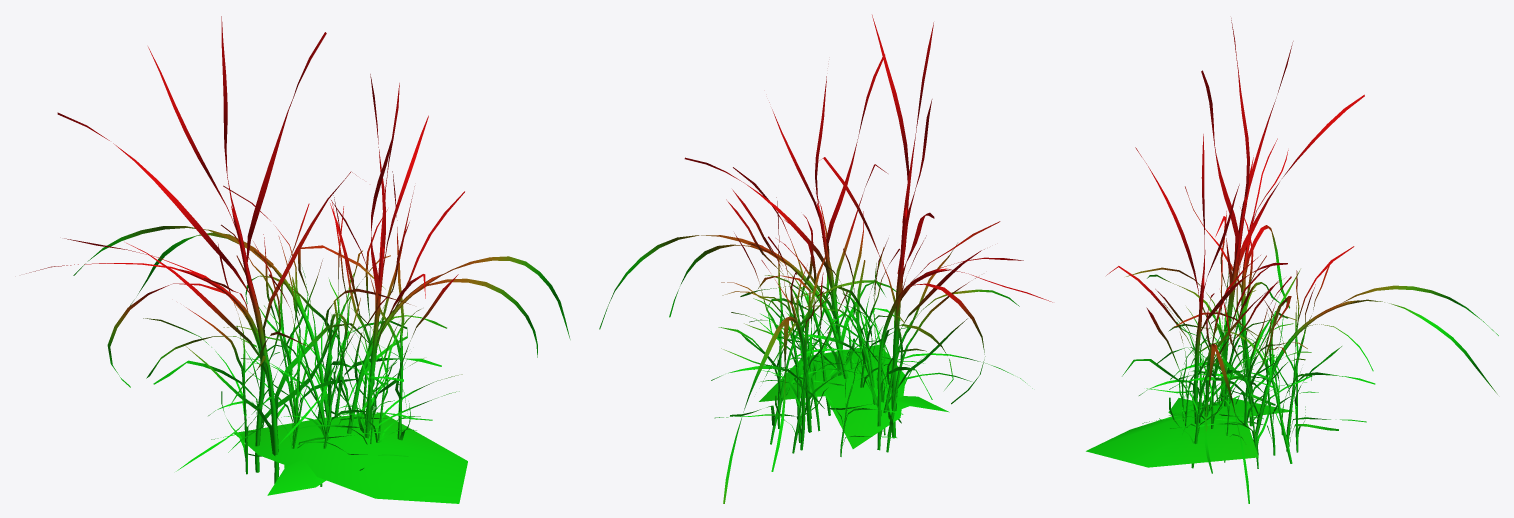
File: Kikuyu Grass_LOD1_Var13_wiljearqx.fbx
3 renders of one model, left to right at view 1: azimuth 30°, elevation 25°; view 2: azimuth 150°, elevation 25°; view 3: azimuth 270°, elevation 25°, orthographic. The views are drawn at different scales.
Parts seen in each view (by area): view 1: _yx9r_Var13_LOD1; view 2: _yx9r_Var13_LOD1; view 3: _yx9r_Var13_LOD1.
Part boxes in pixels (left/top/right/bottom): _yx9r_Var13_LOD1: left=26, top=16, right=570, bottom=503; _yx9r_Var13_LOD1: left=599, top=15, right=1052, bottom=503; _yx9r_Var13_LOD1: left=1086, top=18, right=1498, bottom=503.
Bounding box in the file's own units: 56.46 × 48.61 × 46.5.
